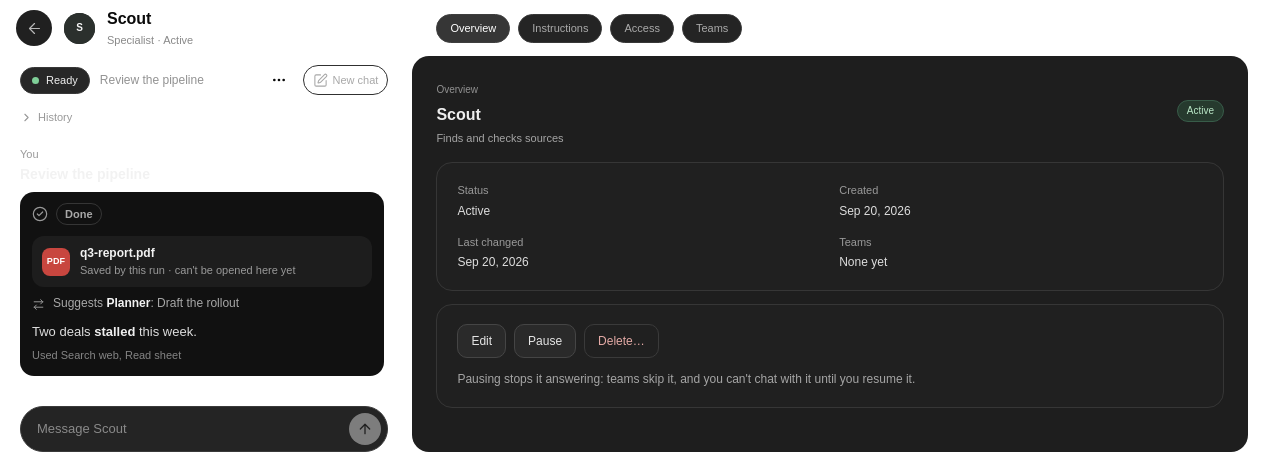
Scenario: Starting over › clears the chat object for a new conversation, and leaves Go's copy
What coordinates should you click on to do the following:
click the button with aria-label "New conversation"
I would click on:
 (345, 80)
Its box is x1=302 y1=65 x2=388 y2=95.
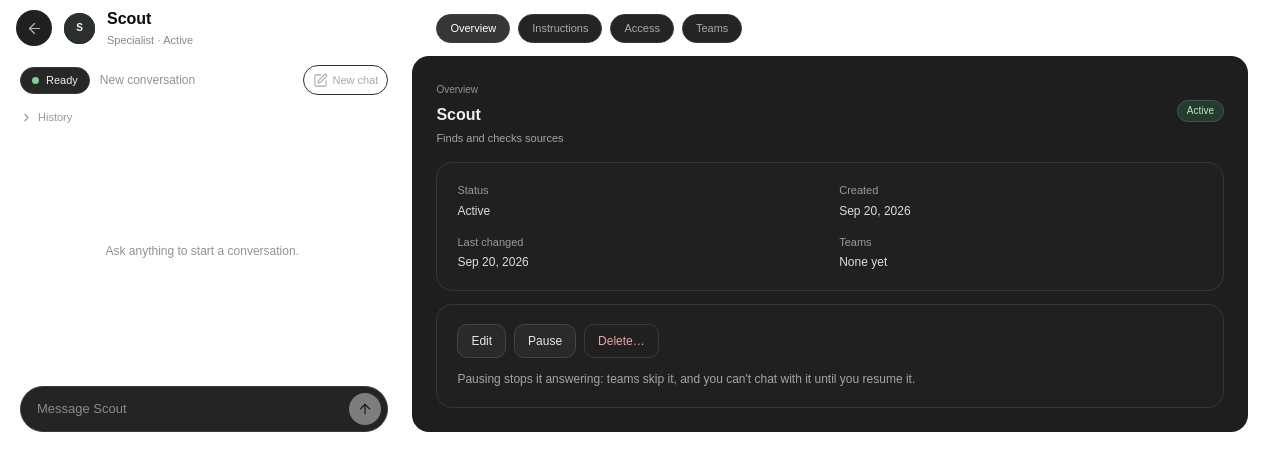
Now the text with class "workspace-agent-thread-title" reads "New conversation", box x1=100 y1=73 x2=195 y2=87
Now the text "Ask anything to start a conversation." is shown, box x1=106 y1=244 x2=299 y2=258
